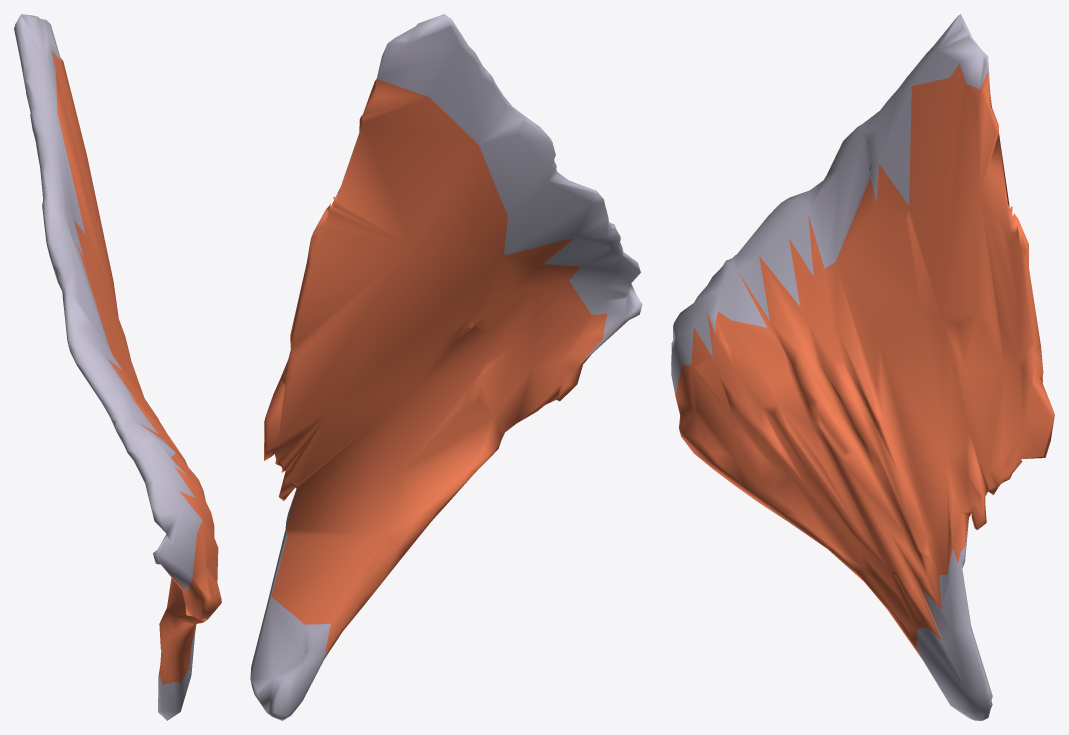
Rendered from Nasalis_left.glb.
3 renders of one model, left to right at view 1: azimuth 30°, elevation 25°; view 2: azimuth 150°, elevation 25°; view 3: azimuth 270°, elevation 25°, orthographic. The views are drawn at different scales.
Parts seen in each view (by area): view 1: Nasalis_muscle.l_Generated_Mesh_From_X3D.337; view 2: Nasalis_muscle.l_Generated_Mesh_From_X3D.337; view 3: Nasalis_muscle.l_Generated_Mesh_From_X3D.337.
Boxes of the visible parts, x1=… form: Nasalis_muscle.l_Generated_Mesh_From_X3D.337: x1=14, y1=14, x2=221, y2=720; Nasalis_muscle.l_Generated_Mesh_From_X3D.337: x1=250, y1=14, x2=642, y2=720; Nasalis_muscle.l_Generated_Mesh_From_X3D.337: x1=671, y1=14, x2=1054, y2=720.
Size of the model in its own units: 0.0133 by 0.0403 by 0.0218.
